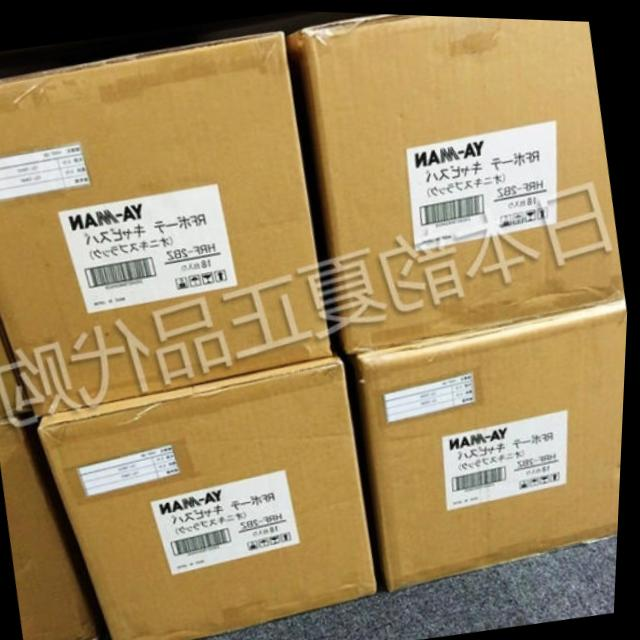box: (0, 31, 334, 416), (287, 11, 627, 350), (44, 351, 382, 640), (356, 297, 630, 588), (0, 416, 113, 640), (0, 328, 33, 422)
